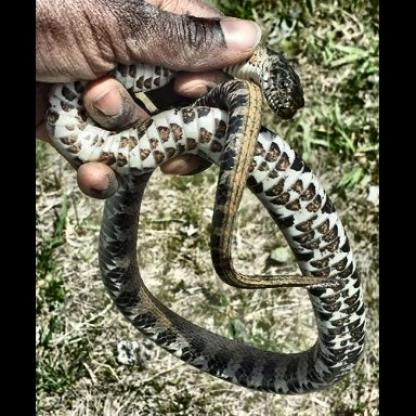Snake: (33, 66, 272, 180), (129, 294, 371, 390), (48, 90, 249, 172), (49, 84, 144, 158), (104, 188, 154, 319)
